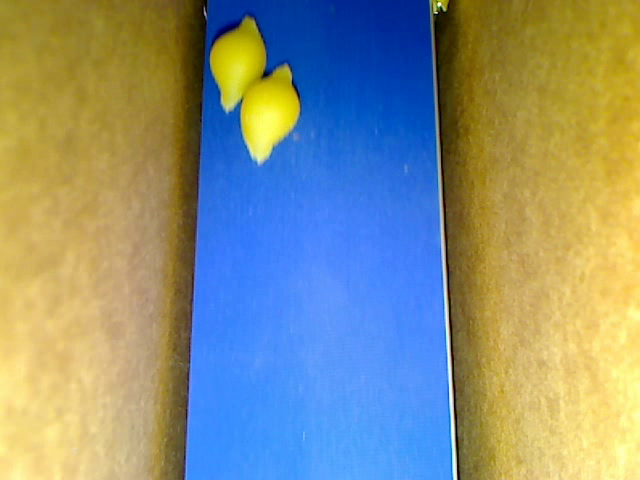shell: (240, 62, 301, 166), (209, 14, 267, 115)
